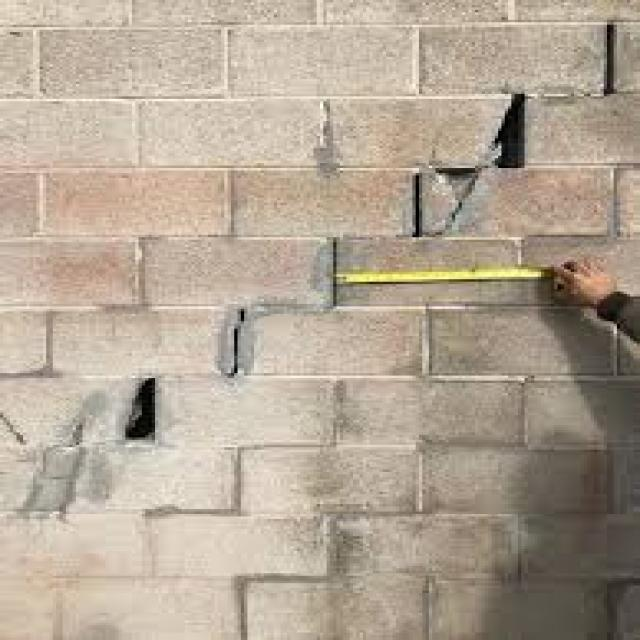Crack: (109, 18, 623, 442)
